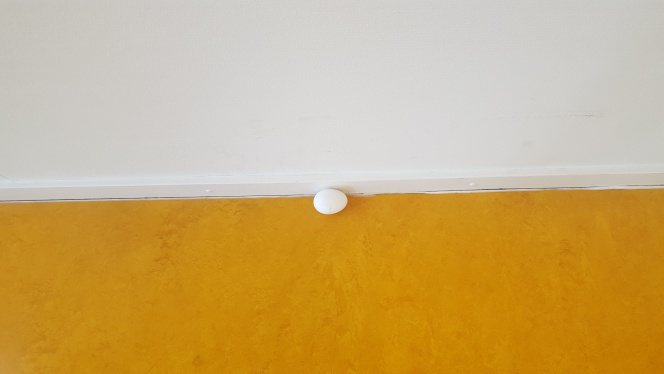egg: (314, 188, 348, 214)
